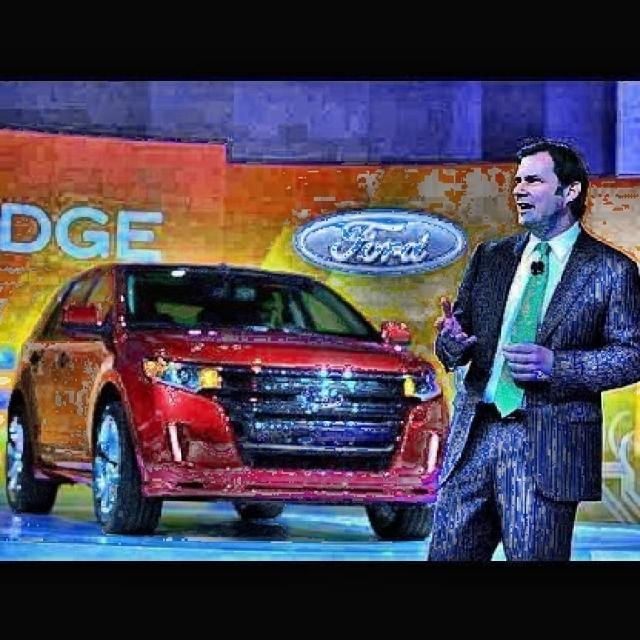maroon: (8, 258, 447, 550)
